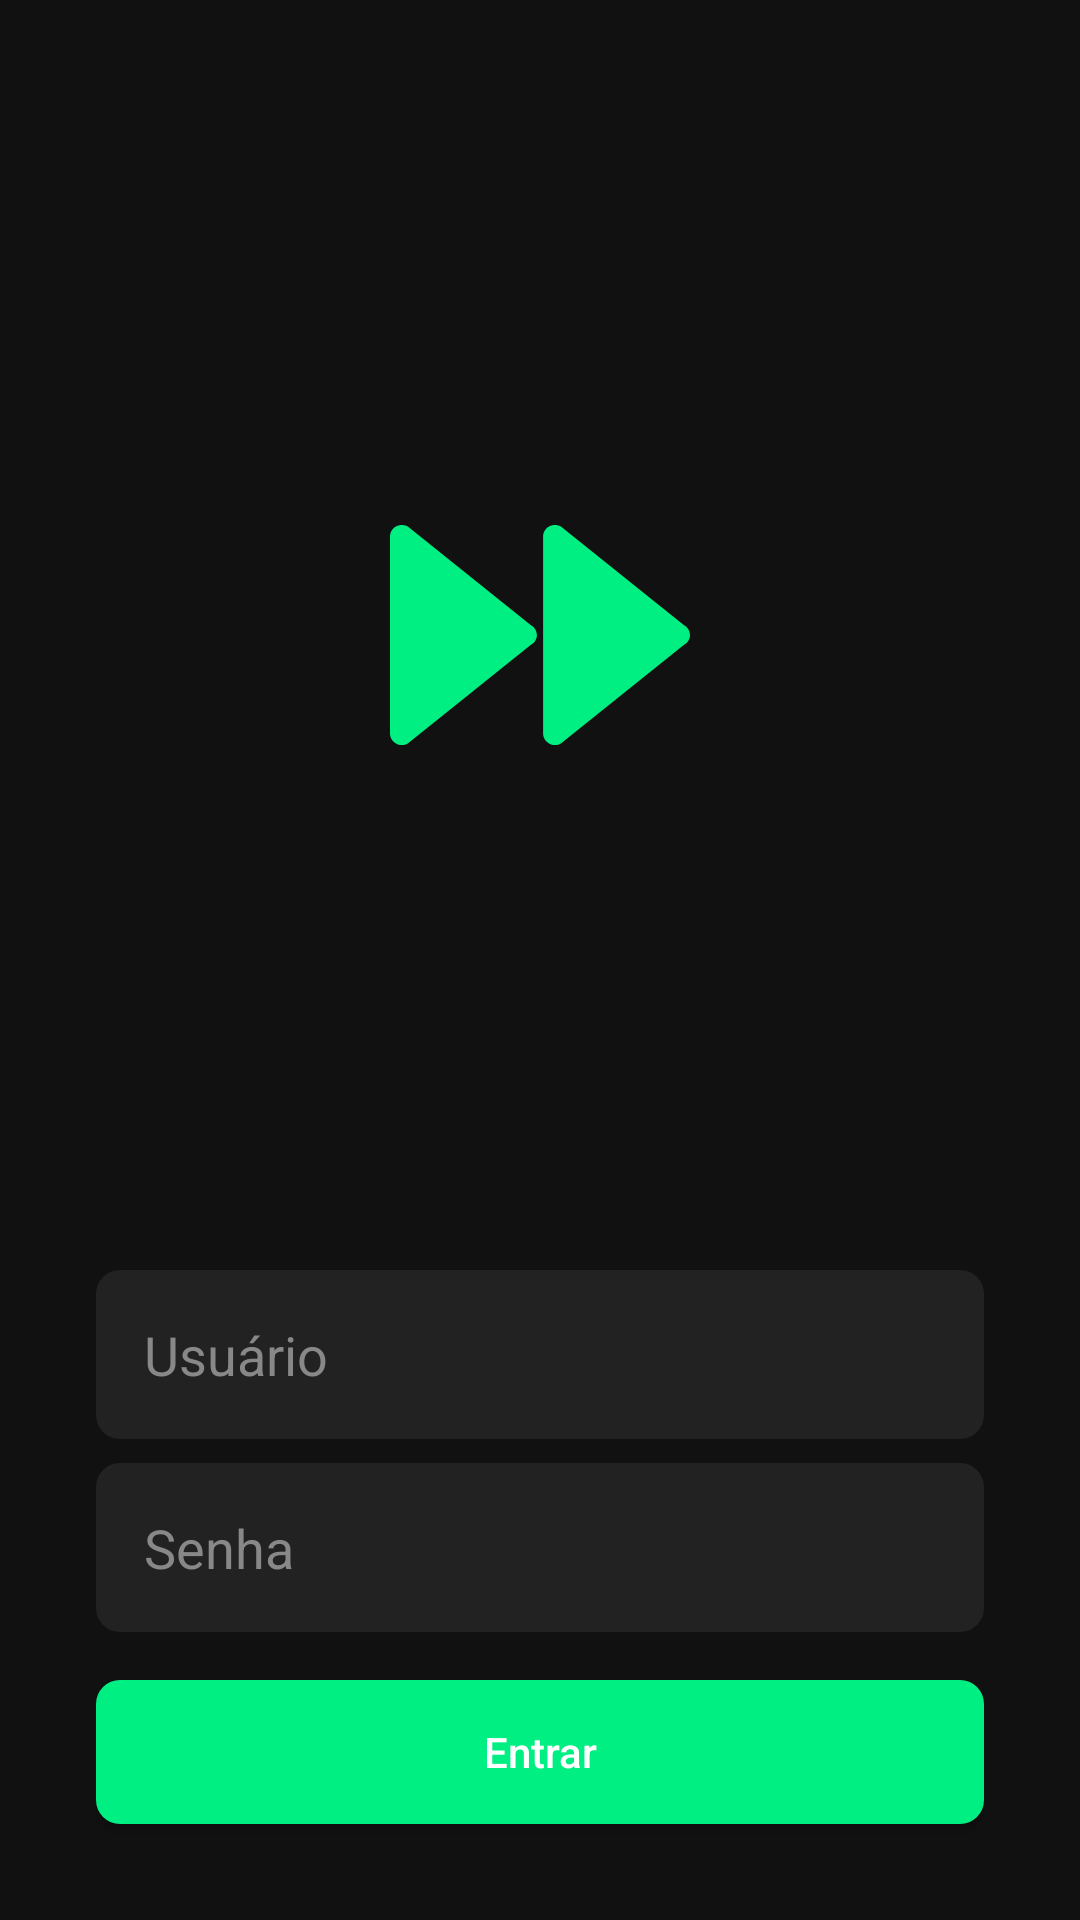

Named icons in this screenshot (1080 × 1920) and their centers, (x=x, y=y):
forward: (x=540, y=635)
